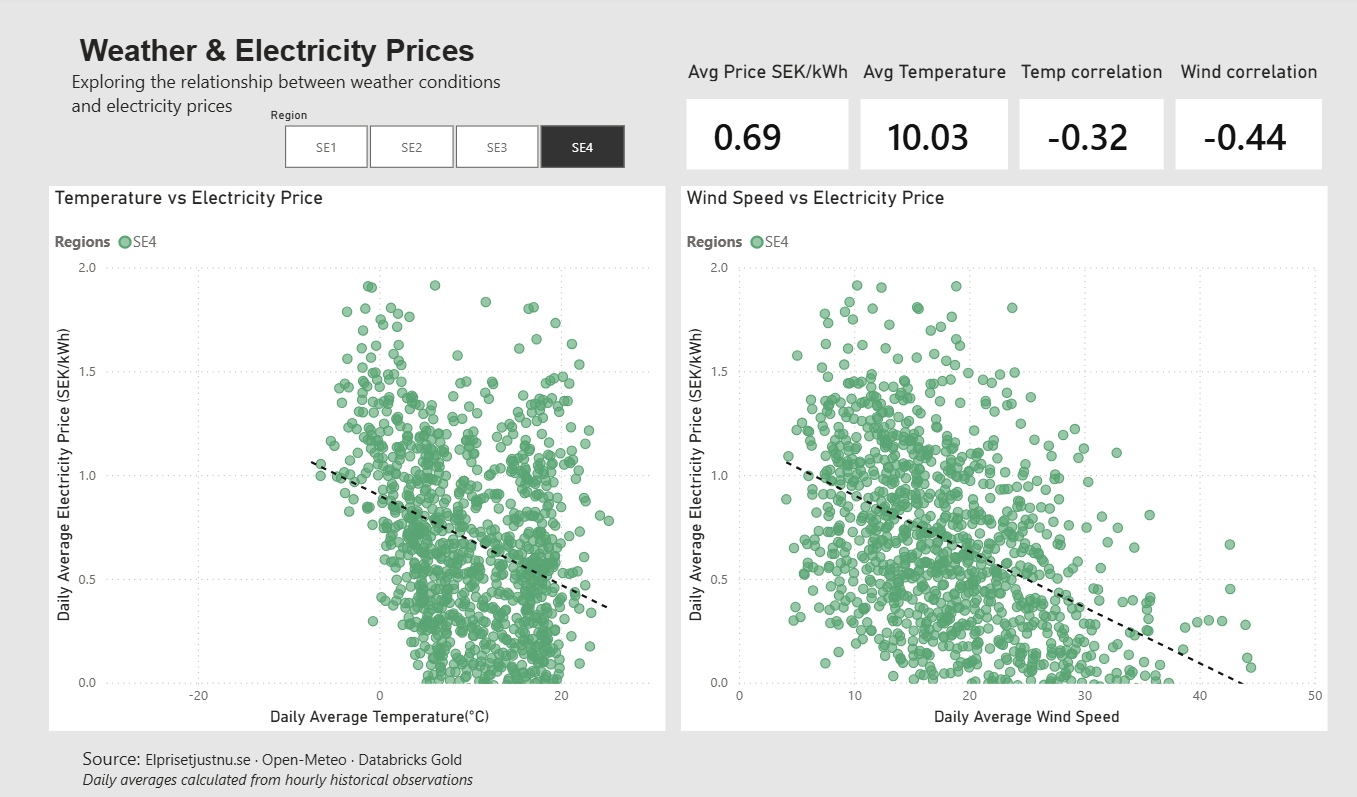

This screenshot's page, from the dashboard's own definition file:
{"tool":"powerbi","page":{"name":"Weather & Electricity","canvas":[1280,720],"ordinal":1},"visuals":[{"type":"textbox","box":[116.4,29.6,408.4,87.8],"z":0},{"type":"cardVisual","title":"Avg Price SEK/kWh","fields":{"Data":["Measures list.Average Electricity Price"]},"box":[667.2,57.3,155.9,103.9],"z":0,"group":"g1"},{"type":"cardVisual","title":"Avg Temperature","fields":{"Data":["Measures list.Average Temperature"]},"box":[823.1,57.3,142.6,103.9],"z":1000,"group":"g1"},{"type":"textbox","box":[126.4,666.3,364.7,53.5],"z":1000},{"type":"cardVisual","title":"Temp correlation","fields":{"Data":["Measures list.Temperature Price Correlation"]},"box":[965.7,57.3,139.1,103.9],"z":2000,"group":"g1"},{"type":"scatterChart","title":"Temperature vs Electricity Price","fields":{"Category":["DimDate.Date"],"Series":["electricity_weather.region"],"X":["Measures list.Average Temperature"],"Y":["Measures list.Average Electricity Price"]},"box":[101.2,170.1,551.6,488.1],"z":2000},{"type":"cardVisual","title":"Wind correlation","fields":{"Data":["Measures list.Wind Price Correlation"]},"box":[1104.8,57.3,141.8,103.9],"z":3000,"group":"g1"},{"type":"slicer","fields":{"Values":["electricity_weather.region"]},"box":[286.6,94.9,353.7,66.3],"z":3000},{"type":"scatterChart","title":"Wind Speed vs Electricity Price","fields":{"Category":["DimDate.Date"],"Series":["electricity_weather.region"],"X":["Measures list.Average Wind Speed"],"Y":["Measures list.Average Electricity Price"]},"box":[667.2,170.1,579.4,488.1],"z":4000},{"type":"group","id":"g1","title":"Group 1","box":[667.2,57.3,579.4,103.9],"z":8005}]}

Visuals, with their boxes on the page's 1280x720 design canvas (x1, y1, x2, y2). These are canvas units, not pixel positions in the 1357x797 screenshot, which may show the page scaled, cropped or inside an application window:
textbox: box=[116, 30, 525, 117]
"Avg Price SEK/kWh" cardVisual: box=[667, 57, 823, 161]
"Avg Temperature" cardVisual: box=[823, 57, 966, 161]
textbox: box=[126, 666, 491, 720]
"Temp correlation" cardVisual: box=[966, 57, 1105, 161]
"Temperature vs Electricity Price" scatterChart: box=[101, 170, 653, 658]
"Wind correlation" cardVisual: box=[1105, 57, 1247, 161]
slicer - electricity_weather.region: box=[287, 95, 640, 161]
"Wind Speed vs Electricity Price" scatterChart: box=[667, 170, 1247, 658]
"Group 1" group: box=[667, 57, 1247, 161]
